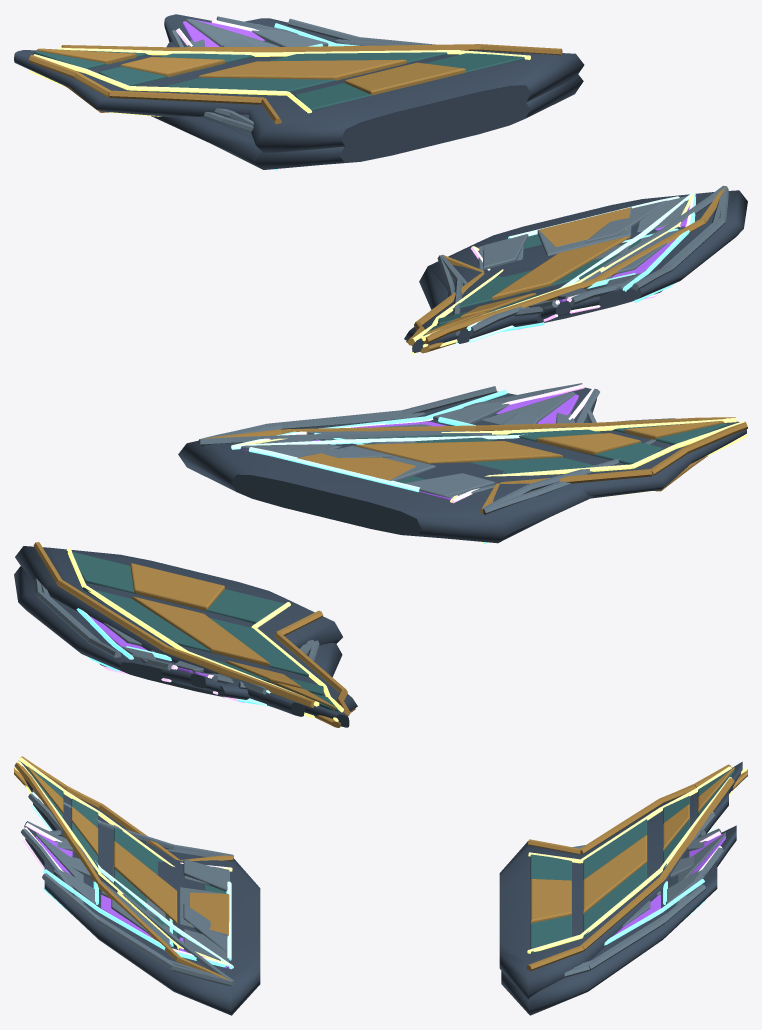
The model's file is wings.glb.
3 views of the same model, one above another, from view 1: azimuth 30°, elevation 25°; view 2: azimuth 150°, elevation 25°; view 3: azimuth 270°, elevation 25° (orthographic). The views are drawn at different scales.
Parts seen in each view (by area): view 1: w_phantom Fitting gunmetal, w_phantom Champagne gold edging, w_razor Fitting gunmetal, w_phantom Phantom blue-black enamel, w_vane Fitting gunmetal, w_vane Brushed fitting edges, w_phantom w_phantom emitter, w_razor Brushed fitting edges, w_prism Brushed fitting edges, w_vane w_vane emitter, w_prism Fitting gunmetal, w_razor w_razor emitter (+2 smaller); view 2: w_phantom Champagne gold edging, w_razor Fitting gunmetal, w_phantom Fitting gunmetal, w_phantom Phantom blue-black enamel, w_vane Fitting gunmetal, w_vane Brushed fitting edges, w_razor Brushed fitting edges, w_phantom w_phantom emitter, w_prism Brushed fitting edges, w_vane w_vane emitter, w_razor w_razor emitter, w_prism Violet prismatic glass (+2 smaller); view 3: w_phantom Champagne gold edging, w_phantom Fitting gunmetal, w_vane Fitting gunmetal, w_phantom Phantom blue-black enamel, w_razor Fitting gunmetal, w_vane Brushed fitting edges, w_razor Brushed fitting edges, w_prism Brushed fitting edges, w_phantom w_phantom emitter, w_vane w_vane emitter, w_prism Violet prismatic glass, w_razor w_razor emitter (+2 smaller).
Boxes of the visible parts, x1,y1,x2,y2 form: w_phantom Fitting gunmetal: [14, 50, 707, 352]; w_phantom Champagne gold edging: [28, 44, 726, 353]; w_razor Fitting gunmetal: [200, 74, 711, 343]; w_phantom Phantom blue-black enamel: [34, 50, 688, 335]; w_vane Fitting gunmetal: [151, 18, 747, 326]; w_vane Brushed fitting edges: [187, 18, 728, 316]; w_phantom w_phantom emitter: [29, 47, 694, 354]; w_razor Brushed fitting edges: [214, 108, 725, 335]; w_prism Brushed fitting edges: [169, 16, 726, 309]; w_vane w_vane emitter: [274, 23, 695, 331]; w_prism Fitting gunmetal: [164, 14, 711, 322]; w_razor w_razor emitter: [456, 192, 694, 345]; w_phantom Champagne gold edging: [33, 417, 747, 727]; w_razor Fitting gunmetal: [178, 440, 571, 716]; w_phantom Fitting gunmetal: [15, 421, 746, 727]; w_phantom Phantom blue-black enamel: [66, 423, 726, 711]; w_vane Fitting gunmetal: [14, 391, 594, 699]; w_vane Brushed fitting edges: [34, 386, 596, 689]; w_razor Brushed fitting edges: [200, 418, 674, 694]; w_phantom w_phantom emitter: [66, 418, 747, 721]; w_prism Brushed fitting edges: [41, 383, 599, 683]; w_vane w_vane emitter: [76, 389, 507, 706]; w_razor w_razor emitter: [201, 434, 527, 716]; w_prism Violet prismatic glass: [89, 392, 578, 677]; w_phantom Champagne gold edging: [14, 756, 747, 980]; w_phantom Fitting gunmetal: [19, 761, 742, 999]; w_vane Fitting gunmetal: [44, 836, 717, 1015]; w_phantom Phantom blue-black enamel: [27, 768, 734, 962]; w_razor Fitting gunmetal: [33, 791, 728, 1015]; w_vane Brushed fitting edges: [42, 830, 707, 986]; w_razor Brushed fitting edges: [28, 790, 715, 985]; w_prism Brushed fitting edges: [21, 821, 725, 981]; w_phantom w_phantom emitter: [14, 757, 747, 965]; w_vane w_vane emitter: [43, 869, 705, 969]; w_prism Violet prismatic glass: [35, 832, 725, 968]; w_razor w_razor emitter: [31, 792, 713, 968].
Bounding box in the file's own units: 34.9 × 5.46 × 53.63.
